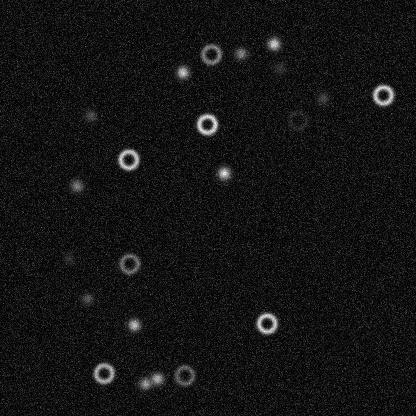Ring: (172, 363, 196, 387), (117, 251, 141, 275), (116, 147, 140, 171), (254, 311, 278, 335), (194, 112, 218, 136), (91, 361, 115, 385), (285, 108, 309, 132), (199, 42, 223, 66), (371, 83, 395, 107)
Spot: (82, 107, 98, 123), (174, 64, 190, 80), (265, 35, 281, 51), (215, 165, 231, 181), (78, 290, 94, 306), (271, 60, 287, 76), (137, 375, 153, 391), (314, 90, 330, 106), (126, 316, 142, 332), (68, 177, 84, 193), (149, 370, 165, 386), (232, 45, 248, 61), (60, 250, 76, 266)
